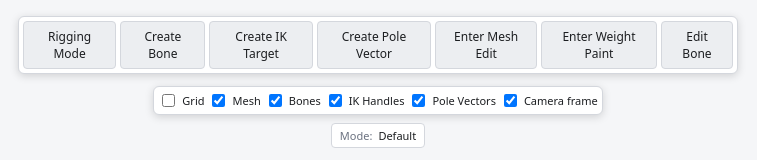
Scenario: CanvasToolbar › enters IK target mode when Create IK Target is clicked
Click the button "Create IK Target".
click(261, 45)  # box [209, 21, 313, 69]
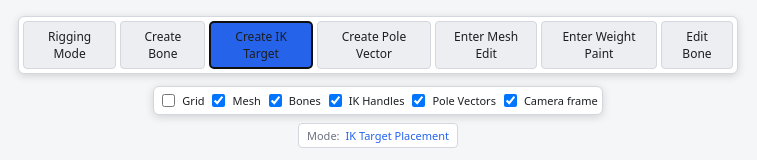
Now the text "IK Target Placement" is shown, box [346, 128, 449, 143]
